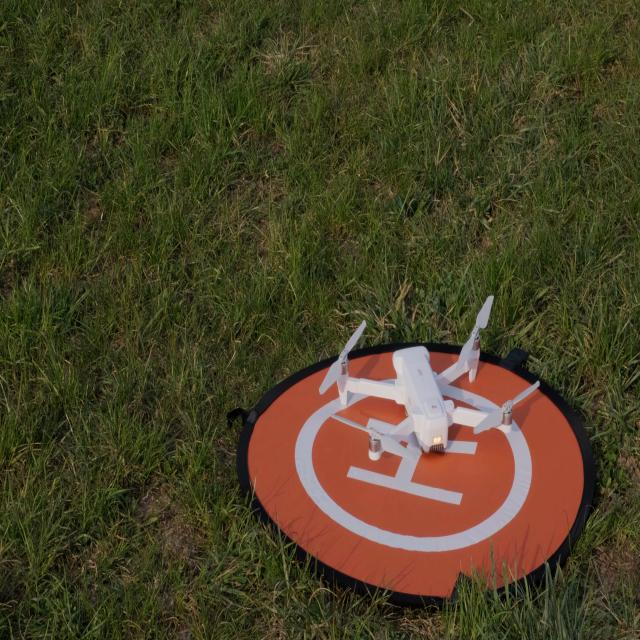drone: (318, 294, 540, 463)
